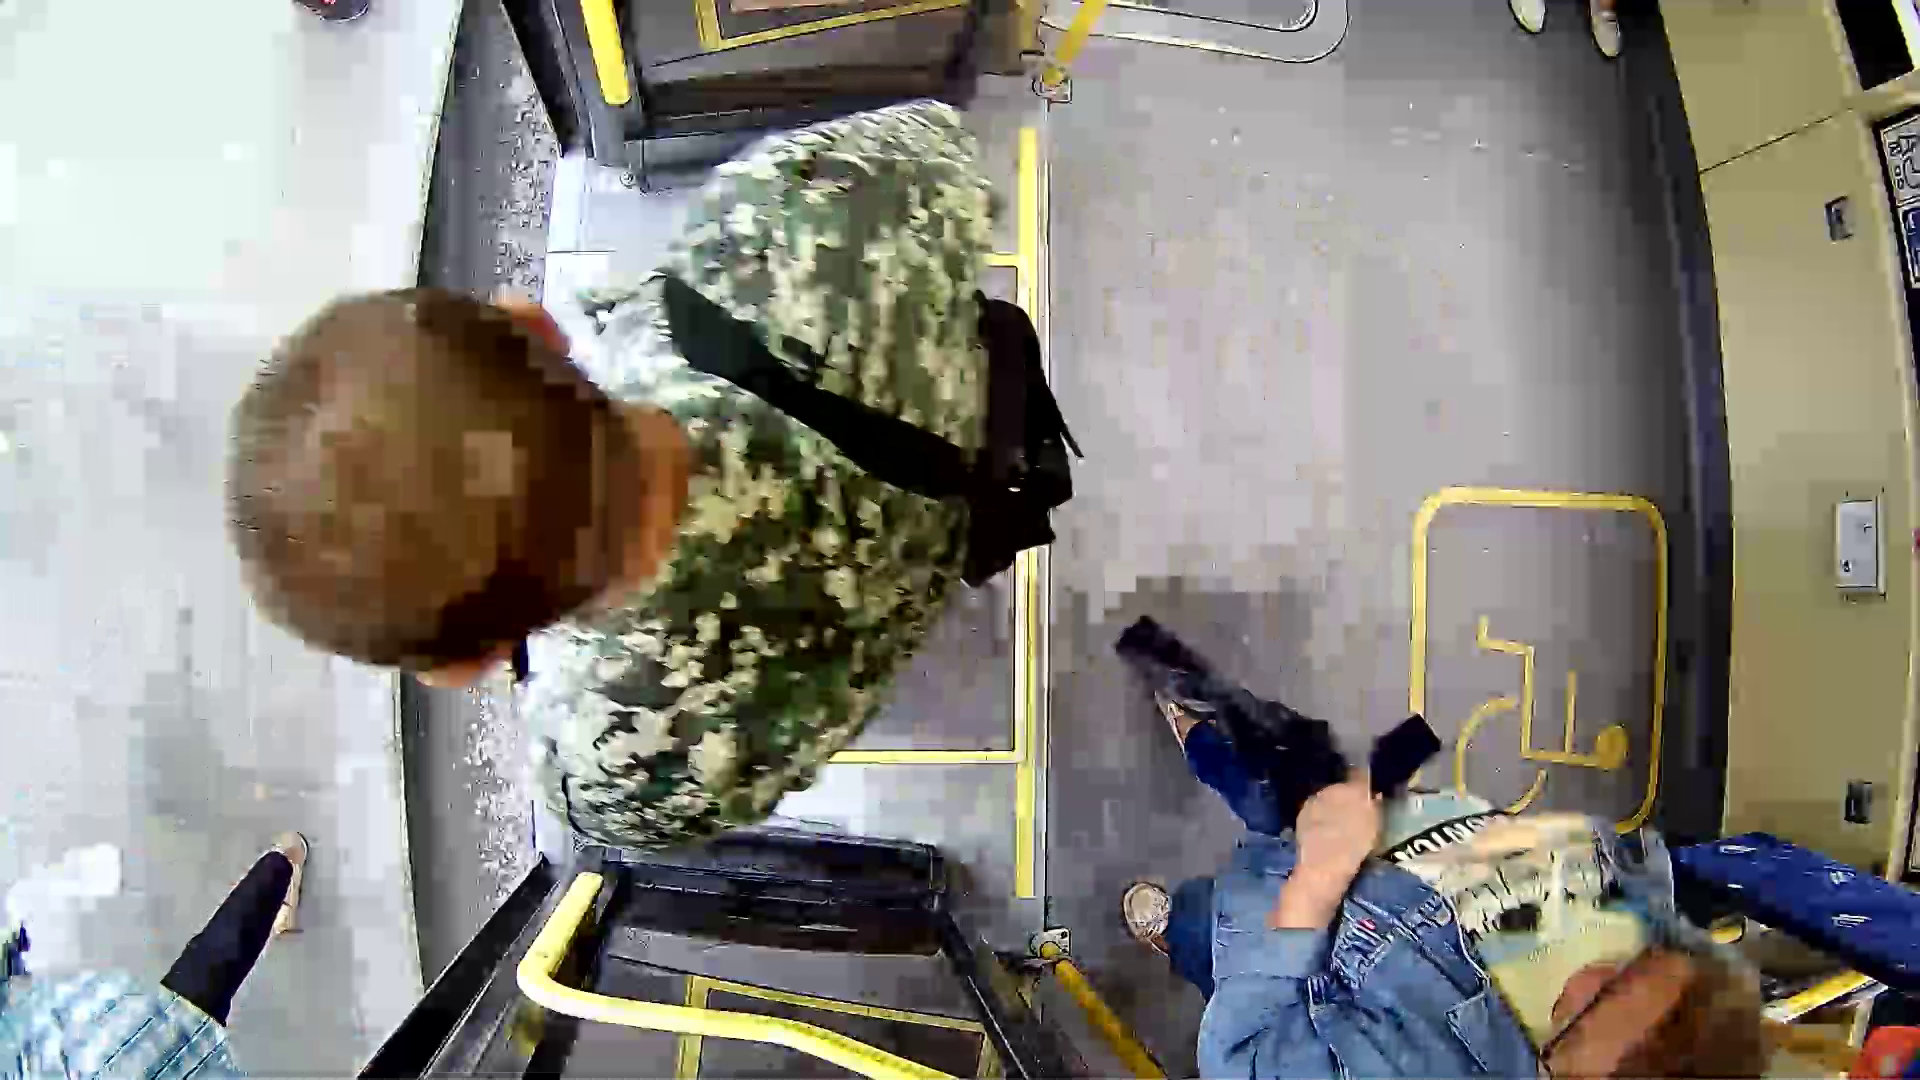person: (234, 155, 1106, 814), (1071, 517, 1920, 1080)
